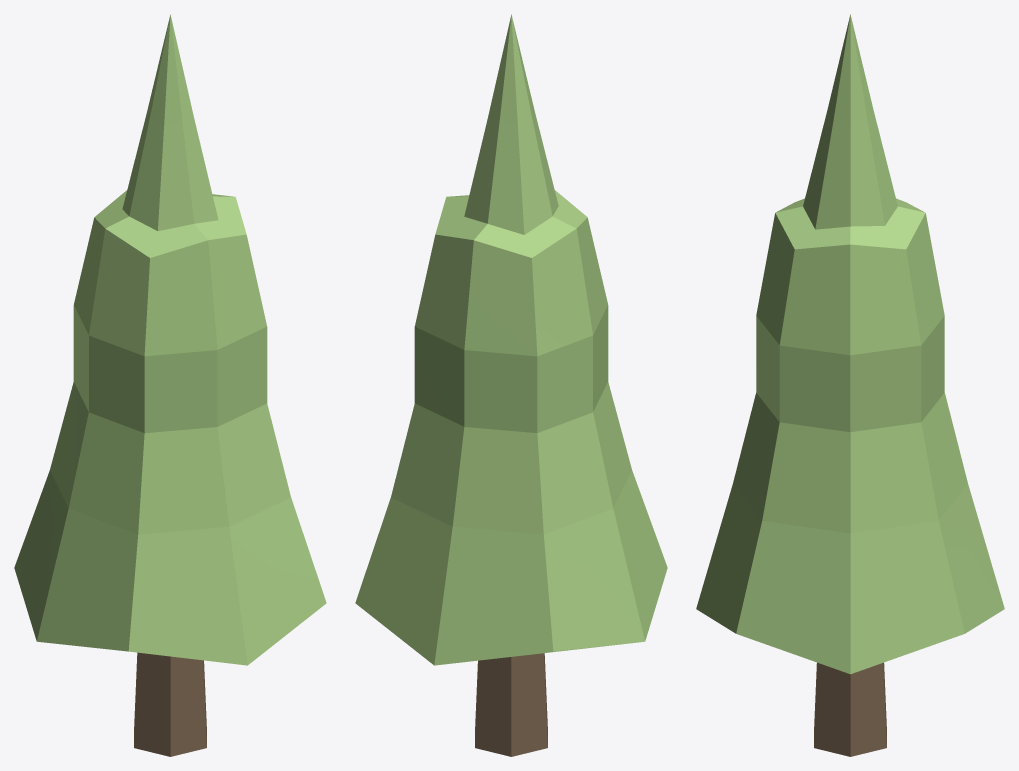
The model's file is props.fbx.
3 renders of one model, left to right at view 1: azimuth 30°, elevation 25°; view 2: azimuth 150°, elevation 25°; view 3: azimuth 270°, elevation 25°, orthographic.
Visible parts, largest first — view 1: pCylinder1072_Albero02_Mat_0, pCylinder366_Albero02_Mat_0; view 2: pCylinder1072_Albero02_Mat_0, pCylinder366_Albero02_Mat_0; view 3: pCylinder1072_Albero02_Mat_0, pCylinder366_Albero02_Mat_0.
Part boxes in pixels (left/top/right/bottom): pCylinder1072_Albero02_Mat_0: left=14, top=14, right=326, bottom=756; pCylinder366_Albero02_Mat_0: left=73, top=190, right=267, bottom=433; pCylinder1072_Albero02_Mat_0: left=355, top=14, right=667, bottom=756; pCylinder366_Albero02_Mat_0: left=414, top=190, right=608, bottom=433; pCylinder1072_Albero02_Mat_0: left=696, top=14, right=1004, bottom=756; pCylinder366_Albero02_Mat_0: left=756, top=198, right=944, bottom=432.
Bounding box in the file's own units: 5.71 × 14.79 × 5.71.
